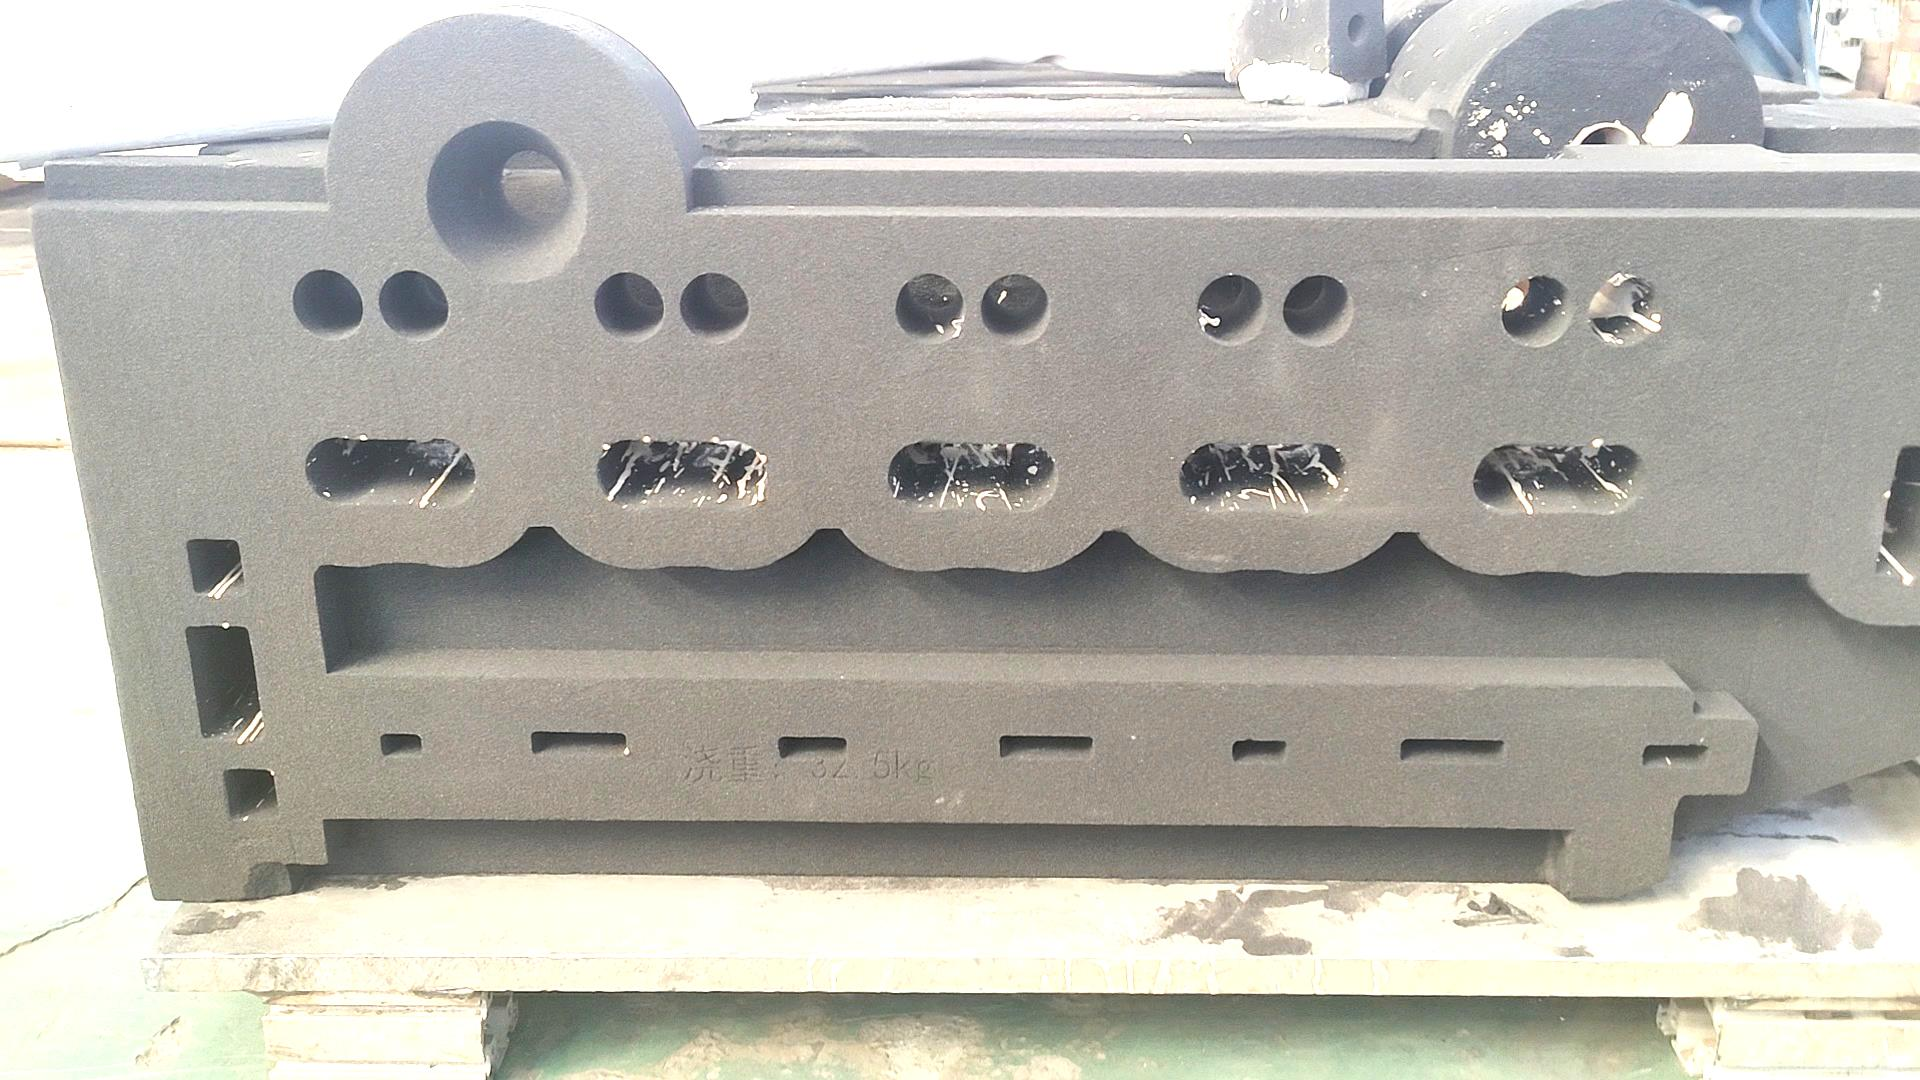pouring hole: (426, 120, 585, 286)
